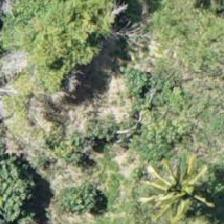coconut_tree: (134, 141, 223, 223)
